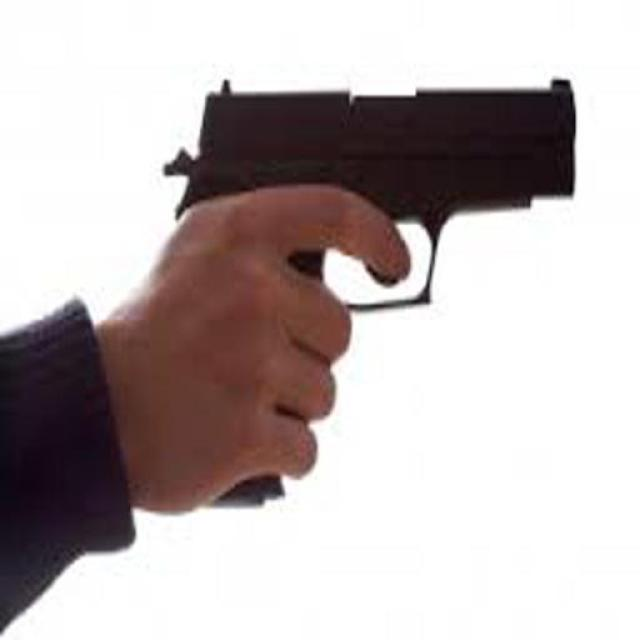pistol: (165, 71, 581, 511)
